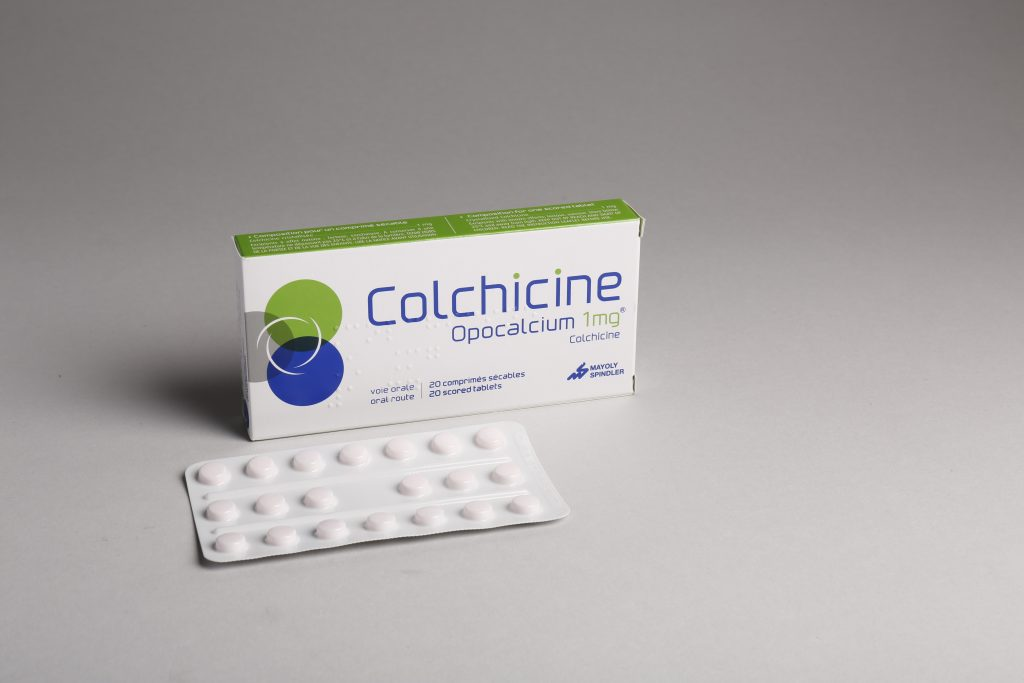Medicine: (230, 198, 676, 438)
